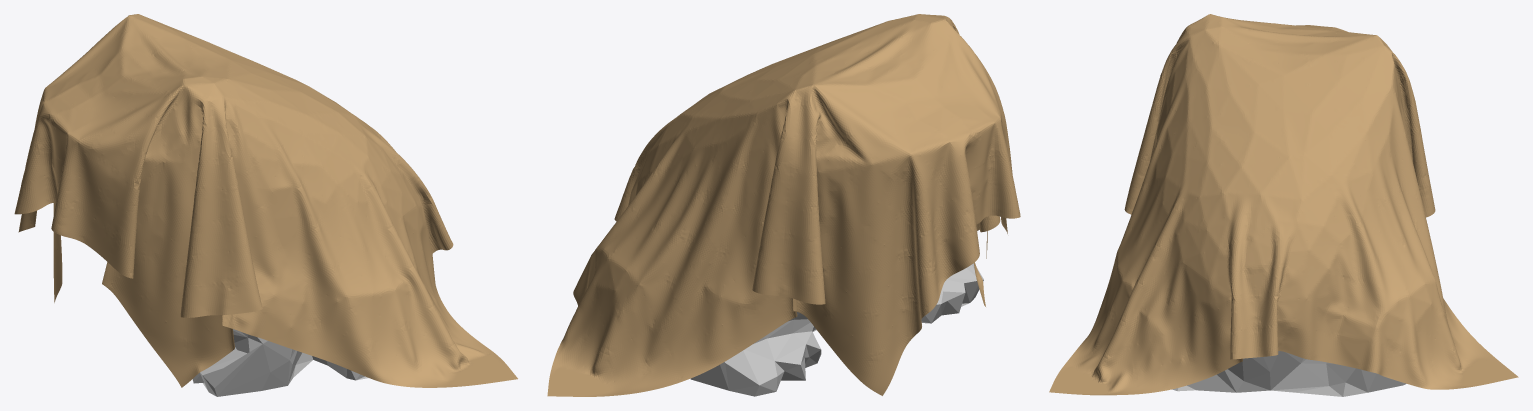
File: level_4.glb
3 renders of one model, left to right at view 1: azimuth 30°, elevation 25°; view 2: azimuth 150°, elevation 25°; view 3: azimuth 270°, elevation 25°, orthographic. The views are drawn at different scales.
Parts seen in each view (by area): view 1: world, object.obj; view 2: world, object.obj; view 3: world, object.obj.
Boxes of the visible parts, x1,y1,x2,y2 form: world: (14, 14, 517, 387); object.obj: (192, 329, 368, 396); world: (547, 14, 1020, 396); object.obj: (690, 263, 983, 396); world: (1049, 14, 1518, 395); object.obj: (1172, 351, 1406, 396).
Bounding box in the file's own units: 0.4086 × 0.2956 × 0.4709.
